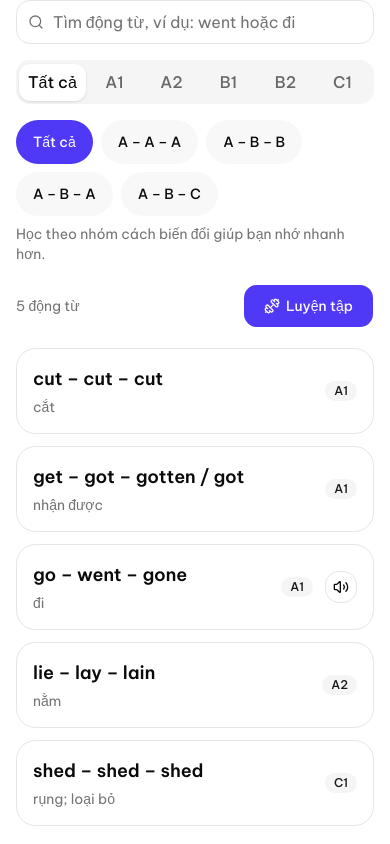
Test: VerbsBrowser › opens a verb from the list and shows its note
Click the button "lie – lay – lain nằm" at [139, 672], box [33,659,310,711]
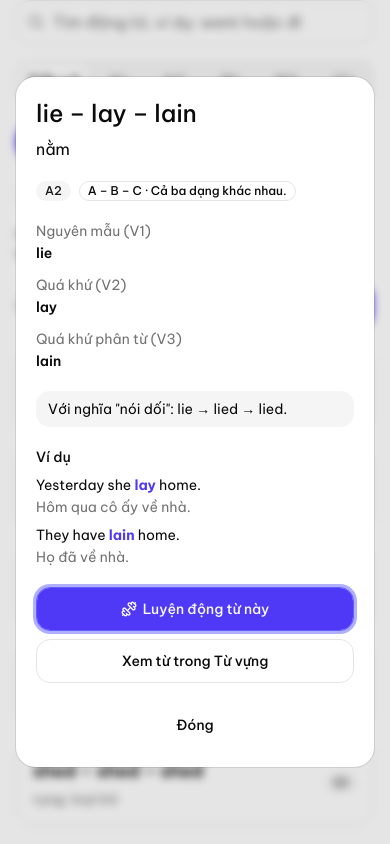
Now the text "Với nghĩa \"nói dối\": lie → lied → lied." is shown, box [36,391,354,427]
